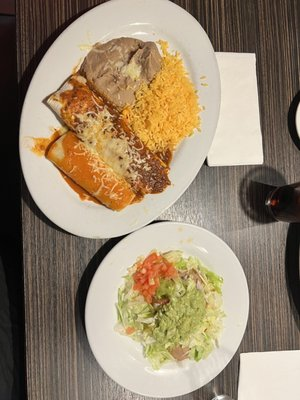sushi: (83, 224, 251, 399)
